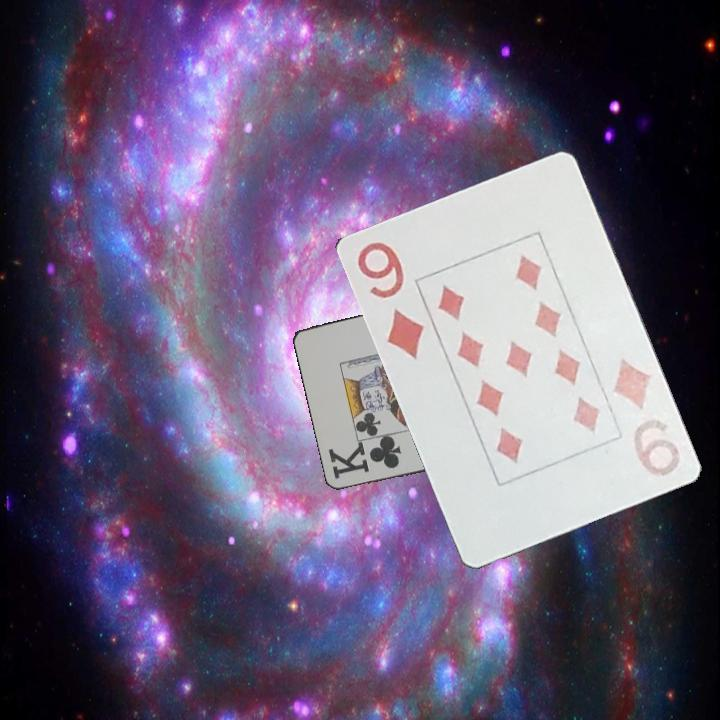9d: (607, 354, 688, 480), (353, 237, 426, 363)
Kc: (326, 436, 405, 482)
